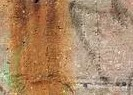Corrosion: (7, 1, 76, 95)
